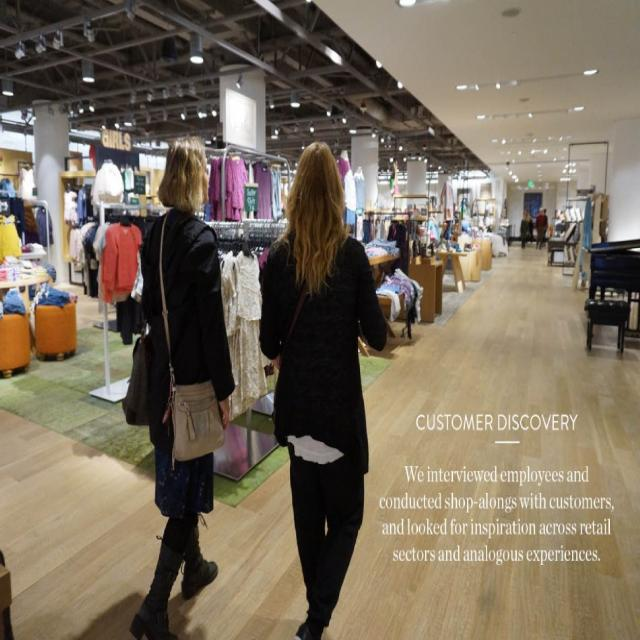body: (256, 138, 387, 639), (120, 134, 236, 639), (535, 205, 545, 249), (553, 208, 565, 236), (520, 210, 528, 249), (540, 206, 547, 248), (526, 212, 534, 246)
